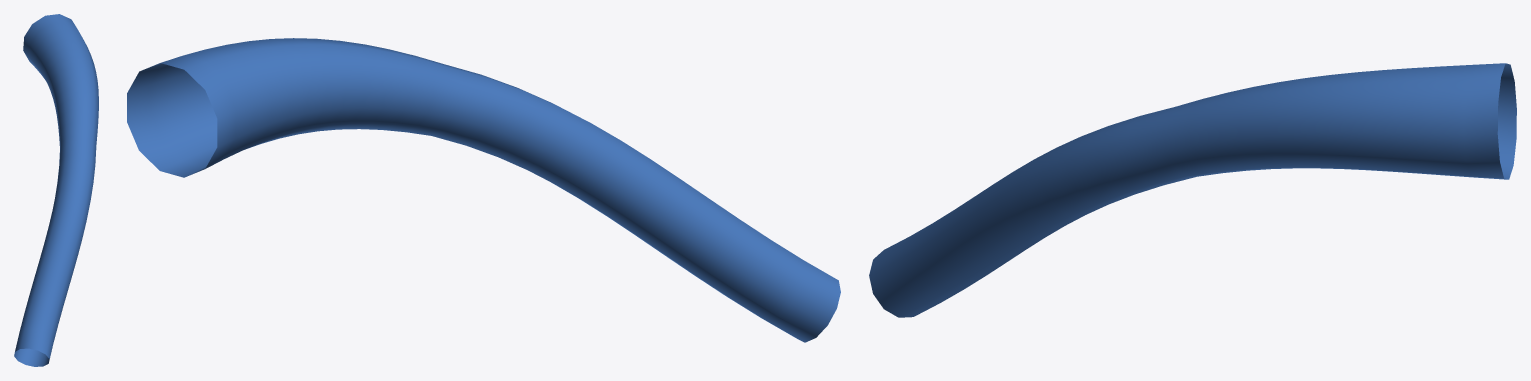
3 views of the same model, side by side, from view 1: azimuth 30°, elevation 25°; view 2: azimuth 150°, elevation 25°; view 3: azimuth 270°, elevation 25° (orthographic). The views are drawn at different scales.
Parts seen in each view (by area): view 1: 左侧下颌后静脉后支; view 2: 左侧下颌后静脉后支; view 3: 左侧下颌后静脉后支.
Boxes of the visible parts, left/top/right/bottom form: 左侧下颌后静脉后支: left=14, top=14, right=98, bottom=366; 左侧下颌后静脉后支: left=127, top=38, right=840, bottom=342; 左侧下颌后静脉后支: left=869, top=63, right=1516, bottom=317.
Bounding box in the file's own units: 0.0155 × 0.0145 × 0.0208.
